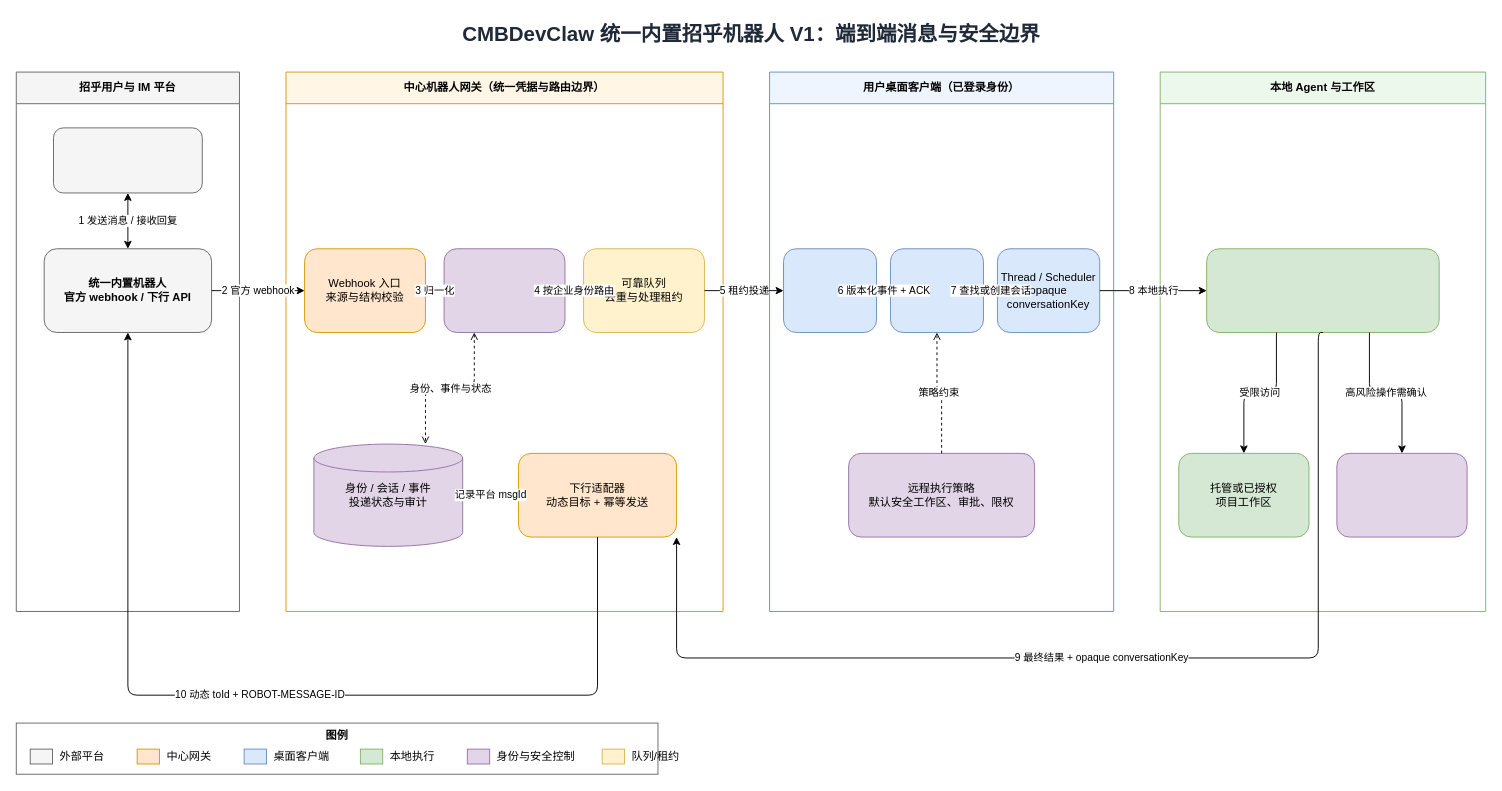
Some shapes in this 1502 by 791 pixel diagram are drawn without their labels. Each missing label, with the box of its shape:
Agent Runtime 模型 / Skills / MCP: (1206, 248, 1439, 332)
WSS 连接 短期 SSO 票据: (783, 248, 877, 332)
内置机器人 本地服务: (890, 248, 983, 332)
招乎用户: (53, 127, 202, 193)
本地工具 桌面人工审批: (1336, 452, 1467, 537)
身份映射 会话路由: (443, 248, 565, 332)
